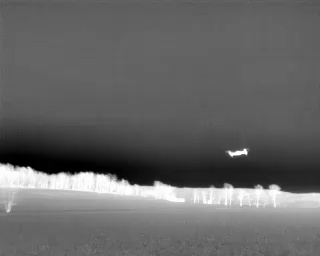DRONE: (221, 143, 253, 163)
